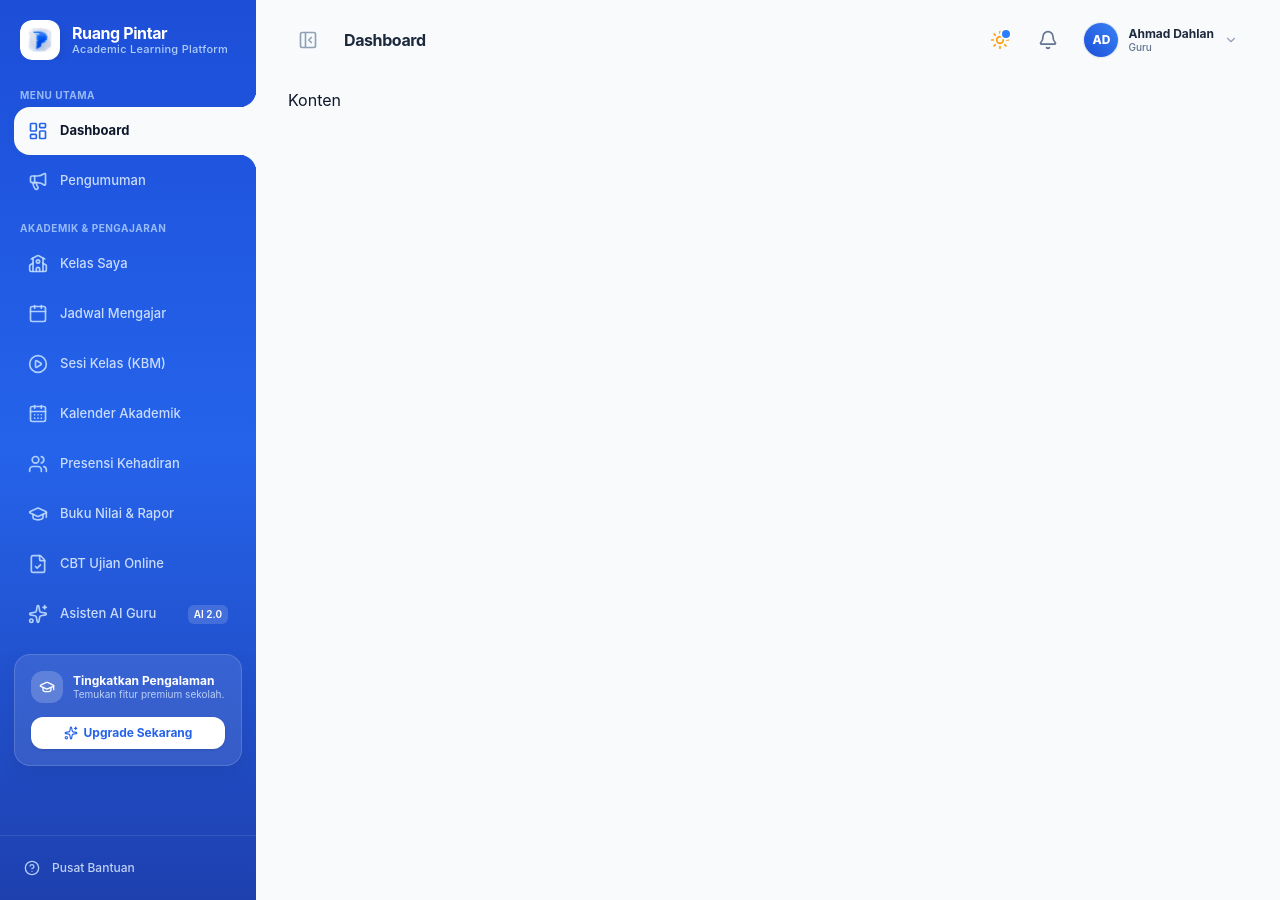
AcademicShell Component (Phase 05) › opens logout confirmation modal when clicking logout and cancels on Batal
The width and height of the screenshot is (1280, 900).
// Open User Menu
Step 1. Click the button with aria-label "Menu Pengguna" → (1162, 40), box [1076,16,1248,62]
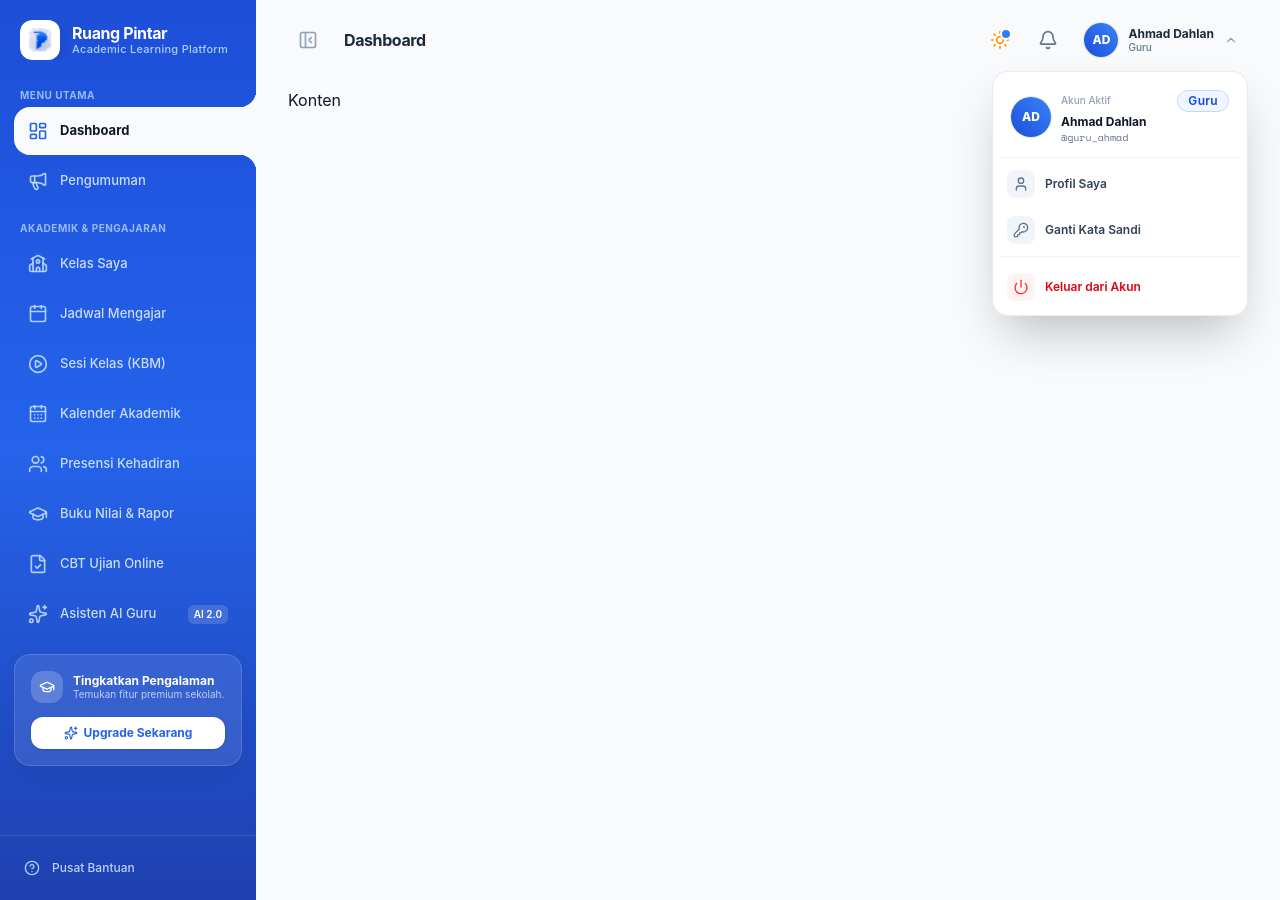
// Click "Keluar dari Akun"
Step 2. Click the button "Keluar dari Akun" → (1120, 286), box [999,264,1241,308]
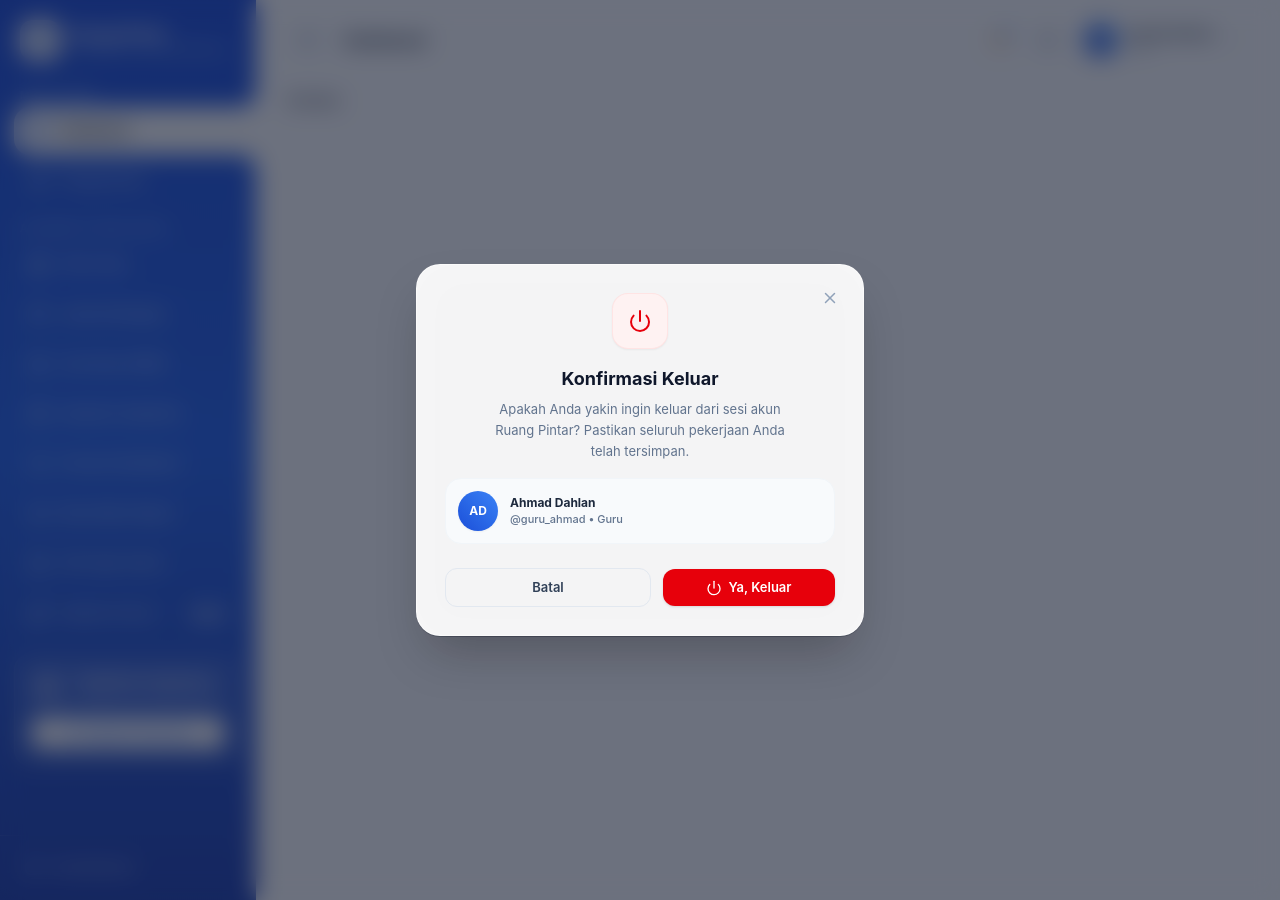
Now the heading "Konfirmasi Keluar" is shown, box [562,365,719,393]
Now the button "Ya, Keluar" is shown, box [663,569,835,606]
Now the button "Batal" is shown
// Click "Batal"
Step 3. Click the button "Batal" → (548, 588), box [445,568,651,607]
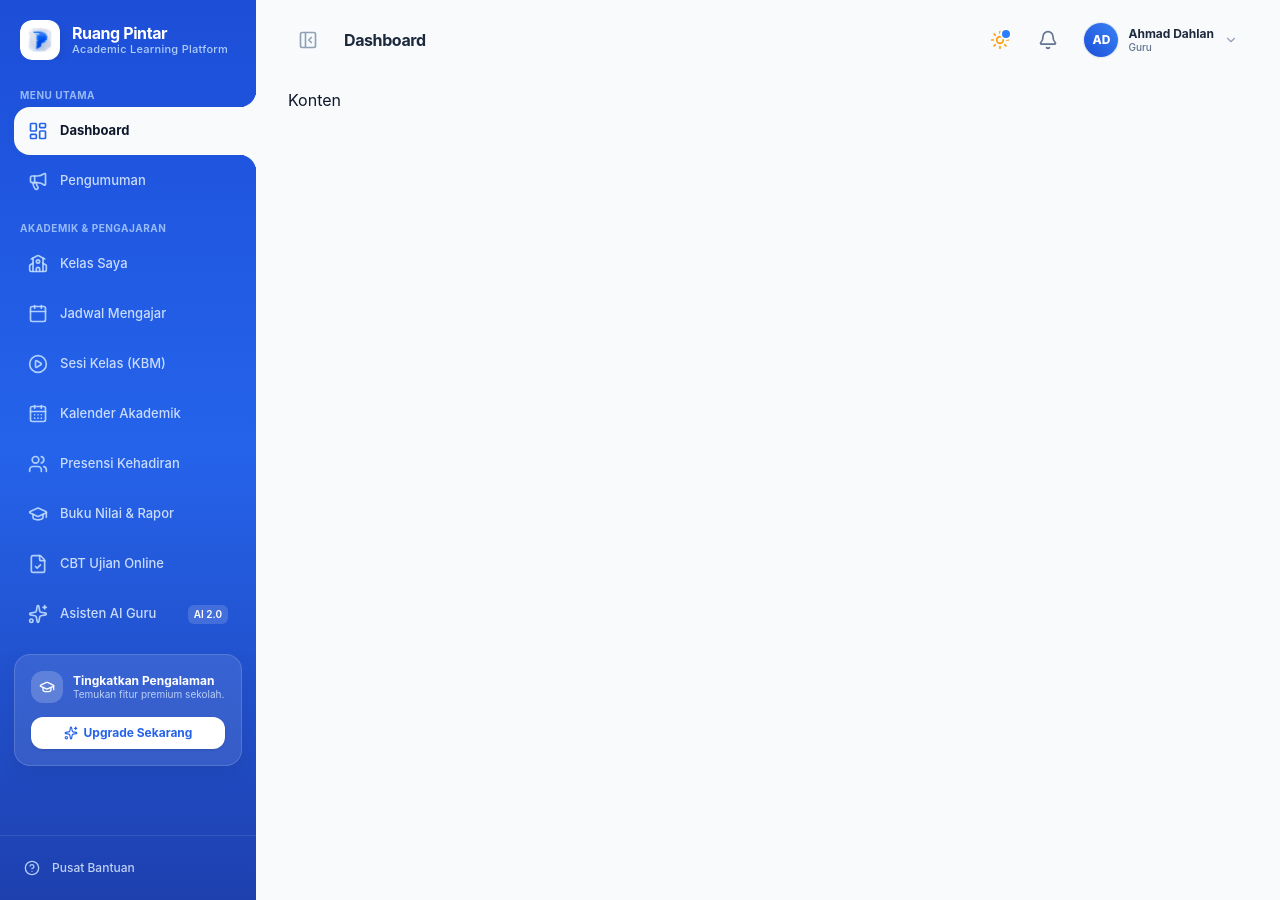
Now the heading "Konfirmasi Keluar" is gone
